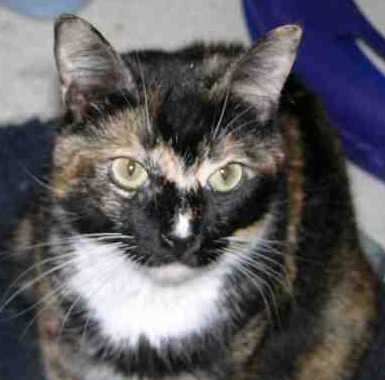Cat: (29, 17, 355, 379)
